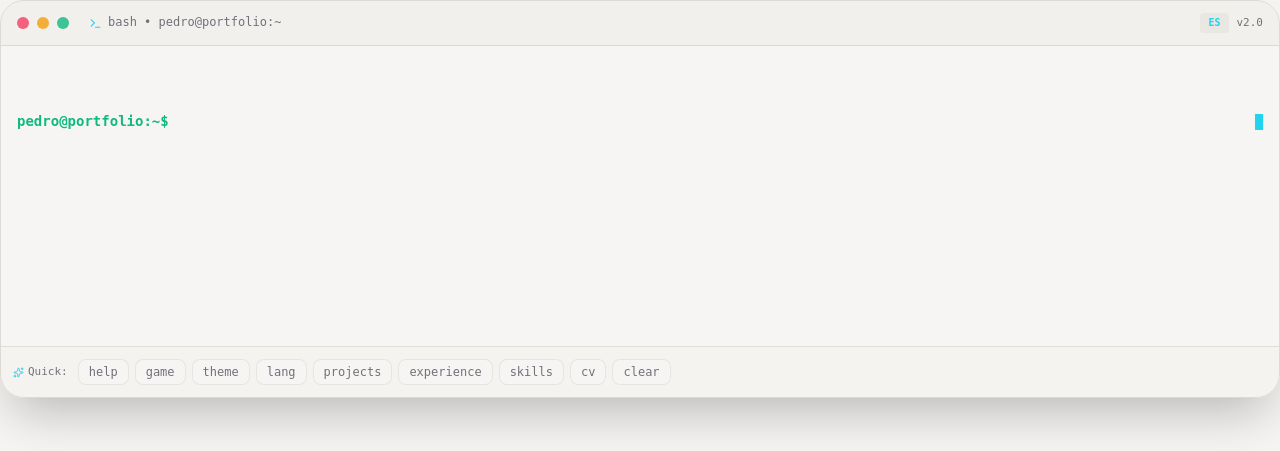
it: Terminal Component › should execute command when clicking a quick chip
Click the button "help" at {"x": 103, "y": 372}, box [78,359,129,385]
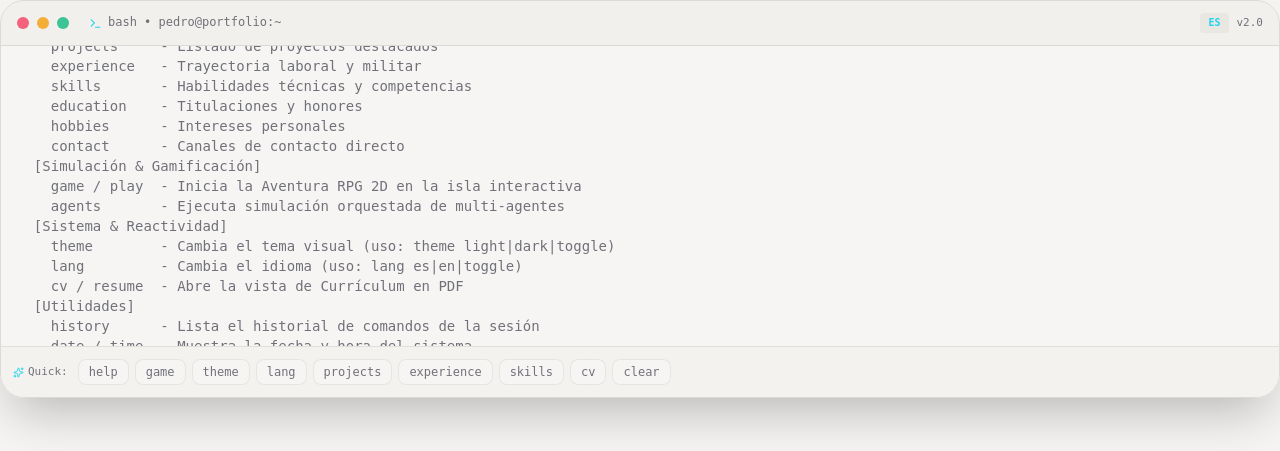
Result: the text "Comandos disponibles:" is shown at [17,46,616,346]
